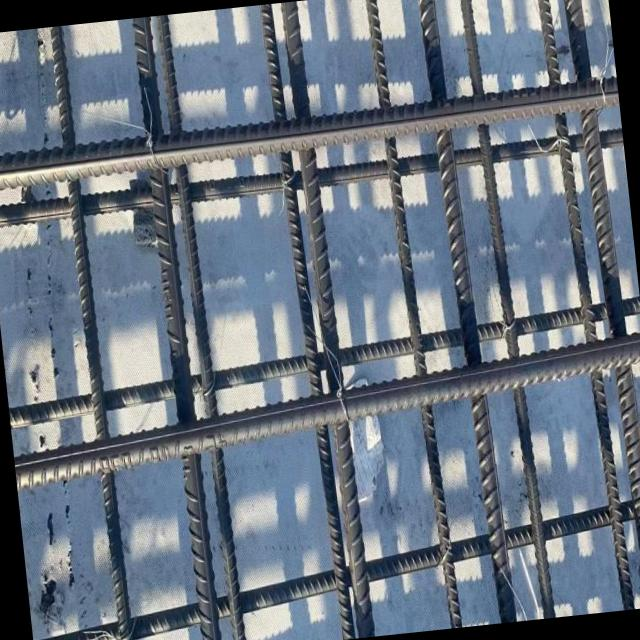ribbed bar: (7, 333, 640, 491), (24, 493, 640, 640), (3, 297, 640, 430), (0, 75, 621, 190), (414, 0, 517, 622), (362, 0, 463, 628), (0, 129, 625, 229), (534, 0, 635, 610), (456, 0, 555, 618), (279, 0, 375, 637), (260, 2, 352, 639), (154, 13, 247, 640), (131, 15, 224, 640), (47, 24, 135, 640), (560, 0, 640, 607)
